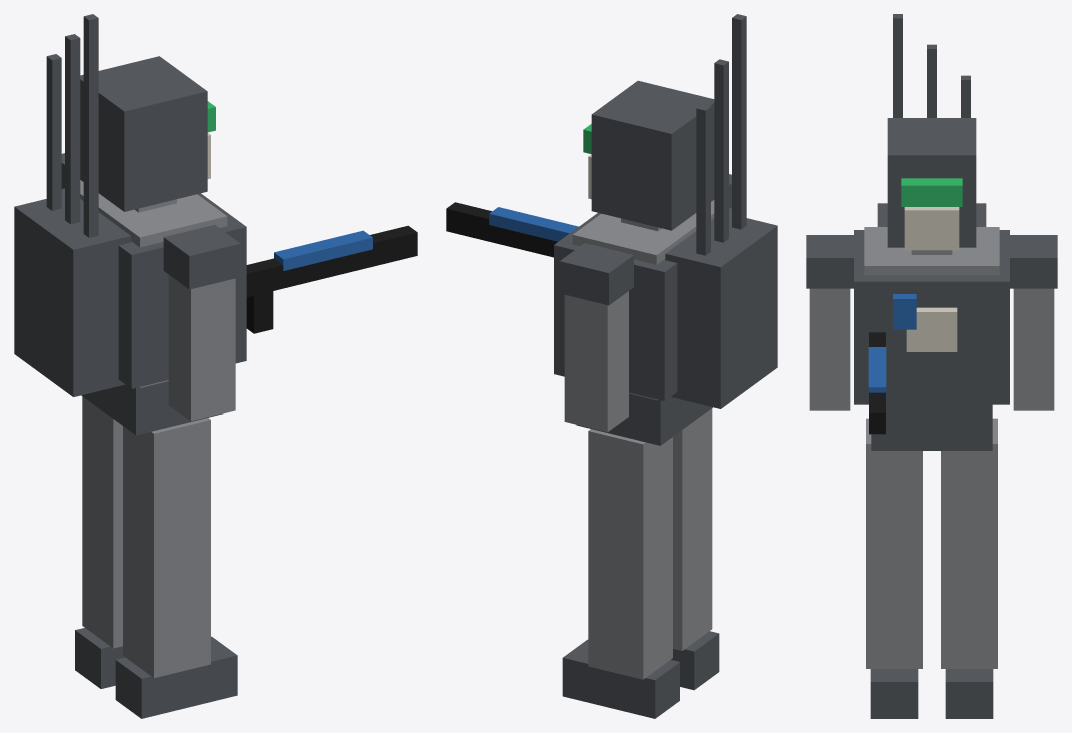
File: op_drone_hunter.glb
3 renders of one model, left to right at view 1: azimuth 30°, elevation 25°; view 2: azimuth 150°, elevation 25°; view 3: azimuth 270°, elevation 25°, orthographic. The views are drawn at different scales.
Parts seen in each view (by area): view 1: op_drone_hunter; view 2: op_drone_hunter; view 3: op_drone_hunter, StanceChip.
Boxes of the visible parts, x1=… form: op_drone_hunter: x1=14, y1=14, x2=417, y2=718; op_drone_hunter: x1=446, y1=14, x2=777, y2=718; op_drone_hunter: x1=806, y1=14, x2=1057, y2=718; StanceChip: x1=901, y1=178, x2=962, y2=206.
Bounding box in the file's own units: 1.06 × 2.09 × 0.74.
